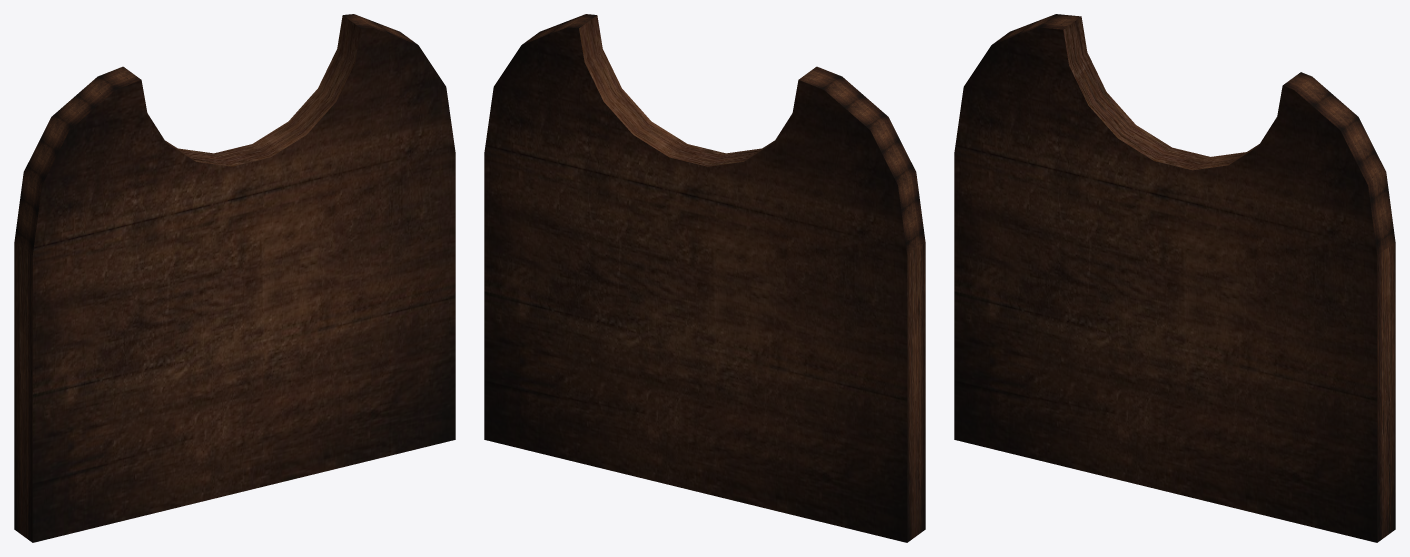
File: ornamento.obj
3 renders of one model, left to right at view 1: azimuth 30°, elevation 25°; view 2: azimuth 150°, elevation 25°; view 3: azimuth 330°, elevation 25°, orthographic.
Visible parts, largest first — view 1: Box001; view 2: Box001; view 3: Box001.
Boxes of the visible parts, box(x1,y1,x2,y2) form: Box001: box(14, 14, 455, 542); Box001: box(484, 14, 925, 542); Box001: box(954, 14, 1395, 542).
Bounding box in the file's own units: 10 × 9.87 × 0.75.
1 material, 1 textured.
